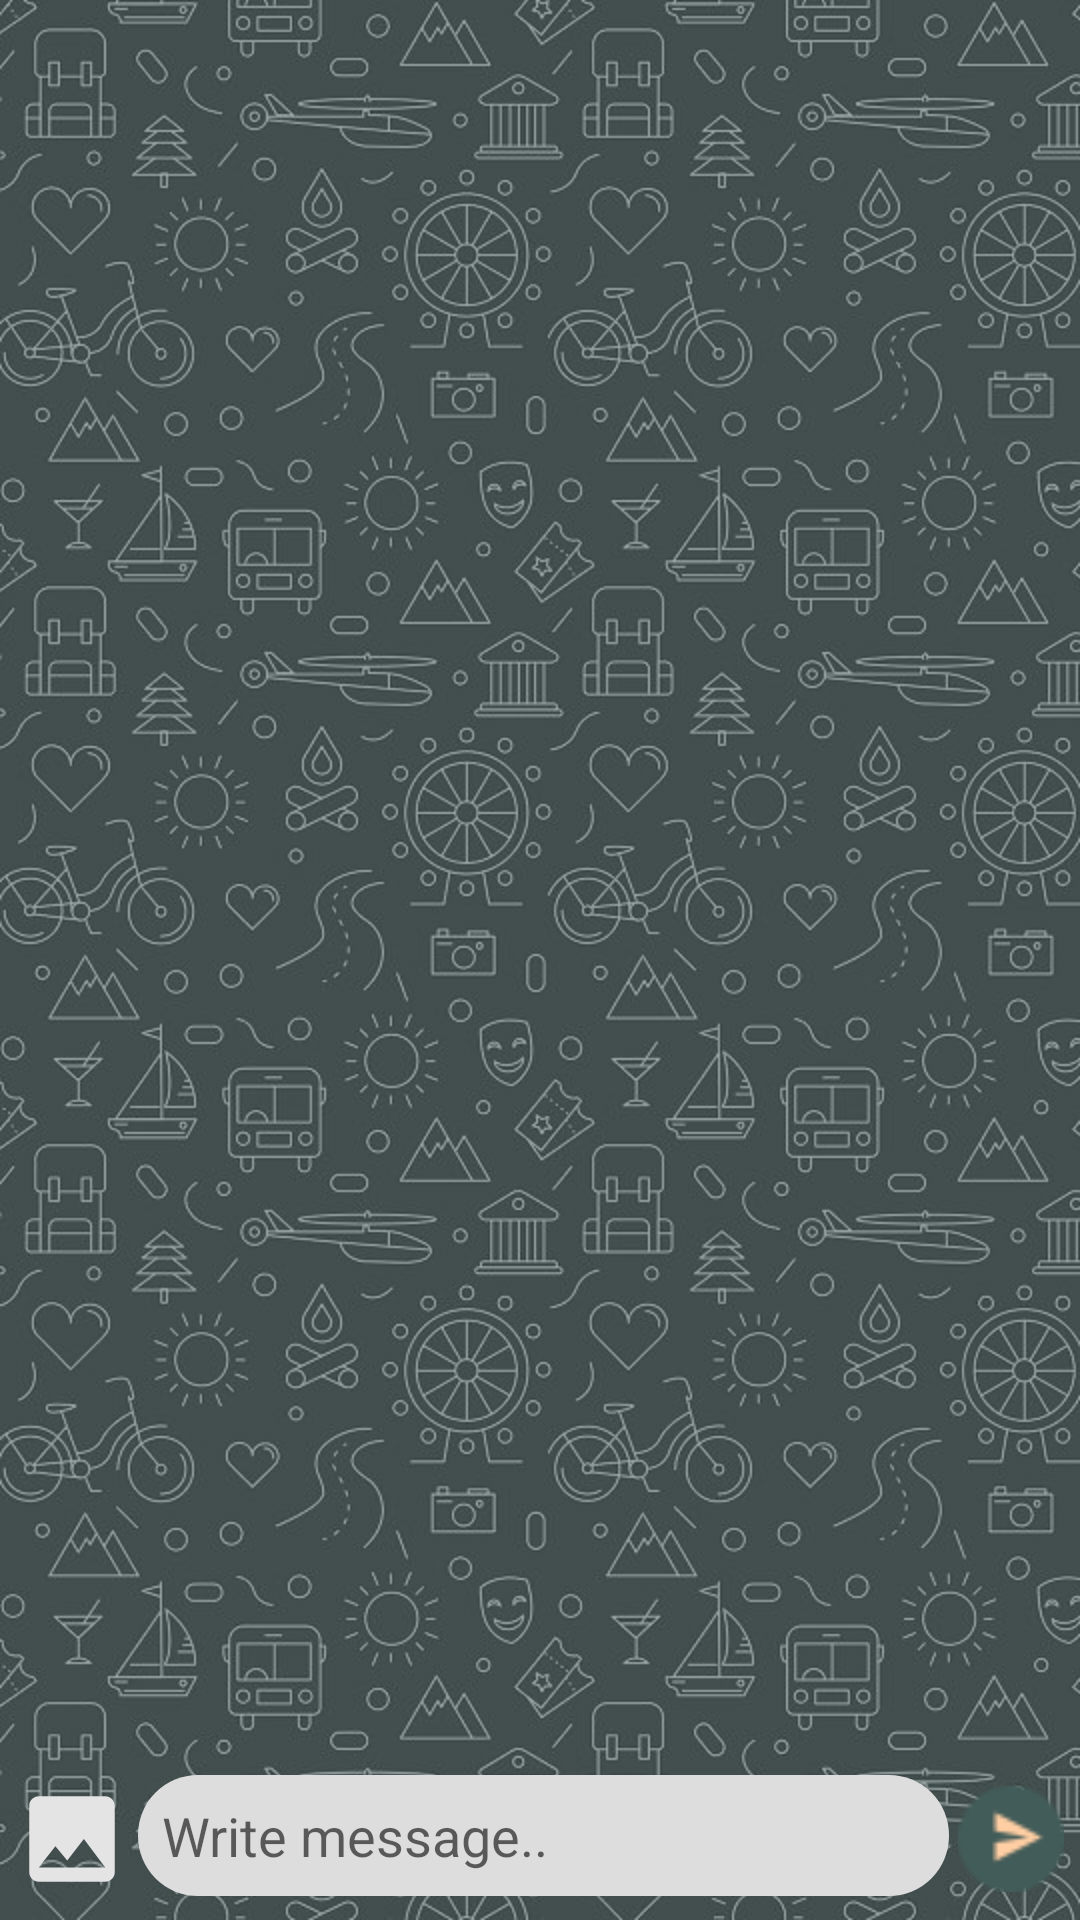

Point at icon controls on the screen. Image size 1080px x 1920px, points as point (x, y).
send: point (1011, 1839)
